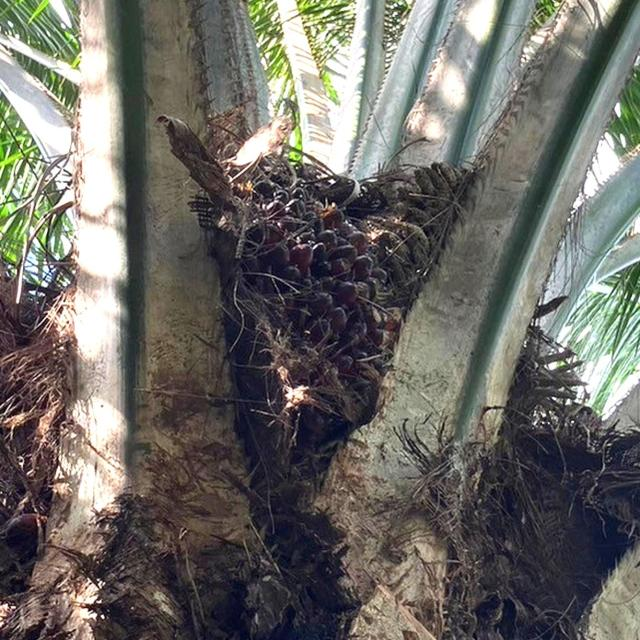ripe: (187, 168, 431, 502)
